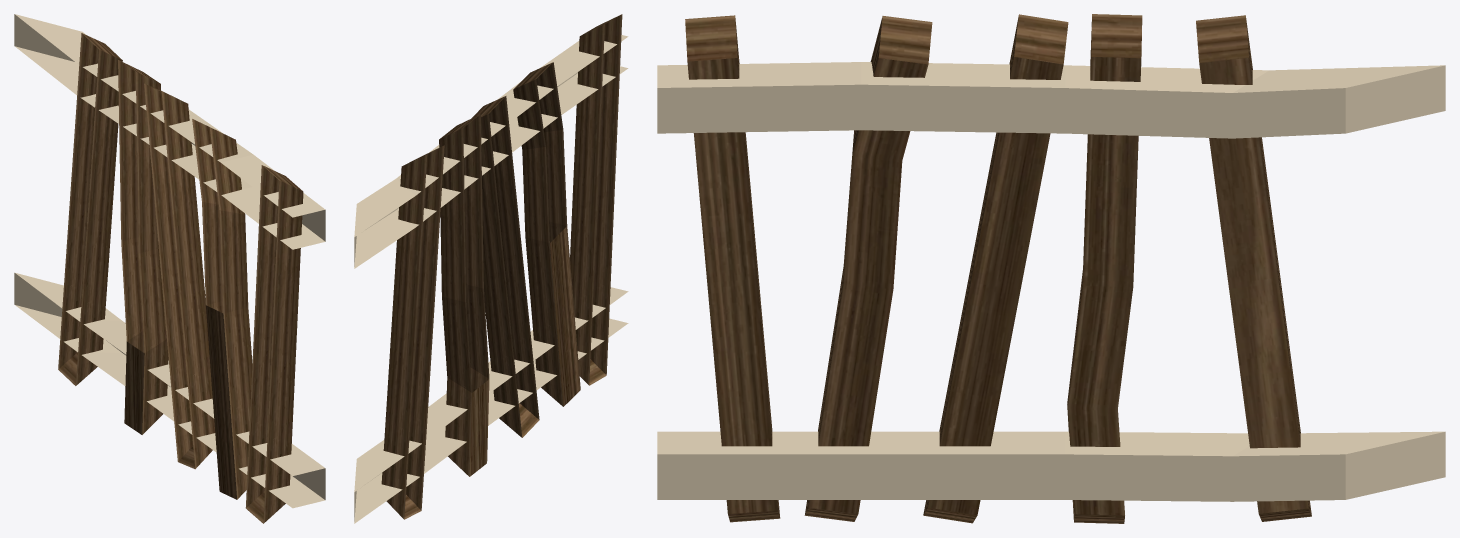
File: Rail End.glb
3 renders of one model, left to right at view 1: azimuth 30°, elevation 25°; view 2: azimuth 150°, elevation 25°; view 3: azimuth 270°, elevation 25°, orthographic. The views are drawn at different scales.
Parts seen in each view (by area): view 1: Rail_end; view 2: Rail_end; view 3: Rail_end.
Boxes of the visible parts, x1,y1,x2,y2 form: Rail_end: [14, 14, 325, 523]; Rail_end: [354, 14, 628, 523]; Rail_end: [657, 14, 1445, 523].
Size of the model in its own units: 0.0514 by 0.4867 by 0.682.
Materials: 2 (1 with a texture image).
